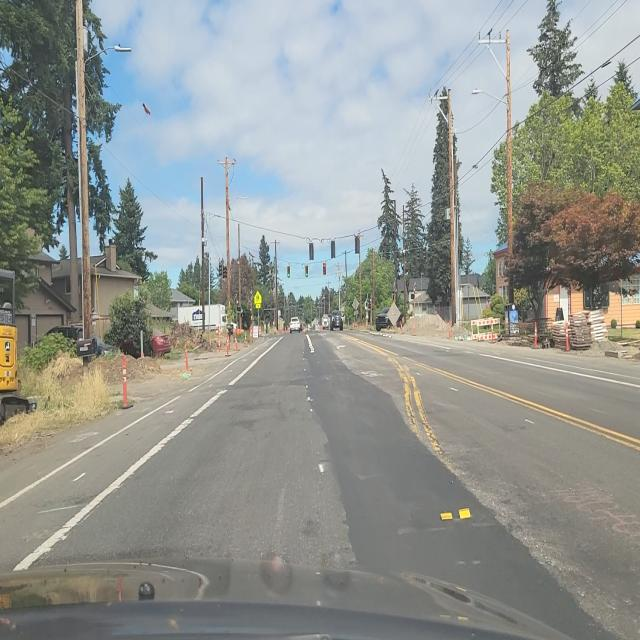car: (375, 308, 395, 331), (330, 310, 344, 331), (288, 315, 301, 336), (290, 316, 302, 333), (321, 315, 330, 330)
crosswalk-sign: (254, 290, 262, 308)
delineator: (182, 343, 192, 378), (122, 355, 128, 408), (565, 322, 570, 352), (234, 329, 240, 352), (217, 327, 222, 351), (534, 321, 538, 349), (226, 329, 230, 356), (247, 328, 252, 343), (244, 328, 248, 345), (412, 320, 416, 336), (441, 320, 445, 335), (400, 321, 404, 334), (449, 322, 452, 338), (489, 329, 493, 341), (141, 344, 144, 359), (259, 325, 262, 337)
